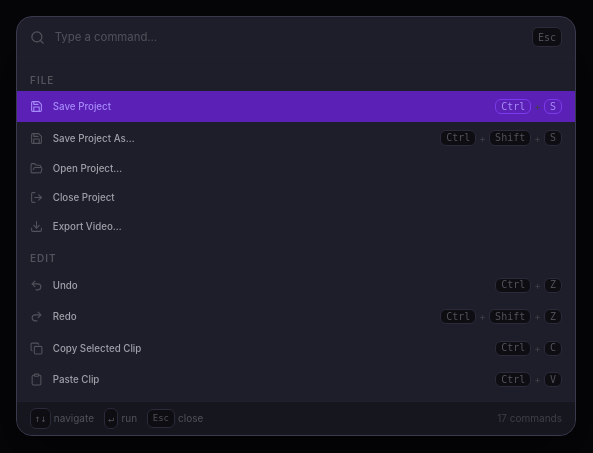
Scenario: 3.11 CommandPalette › typing a query filters commands to matching results only
Type "undo" into the field with placeholder "Type a command…" at (289, 37), box [55,29,522,45]
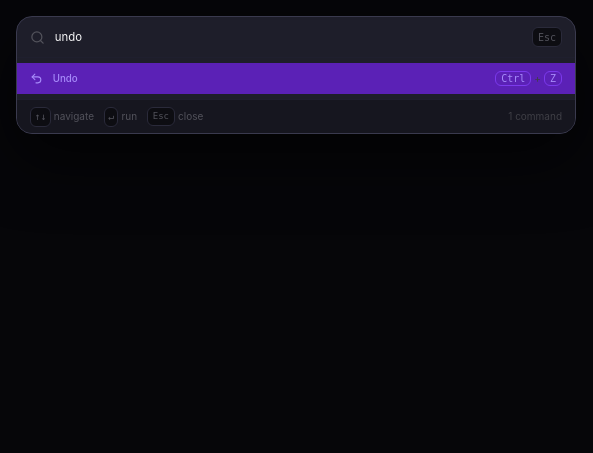
Expected: the text "Undo" is shown, [53,73,78,84]
Now the button "Save Project" is gone
